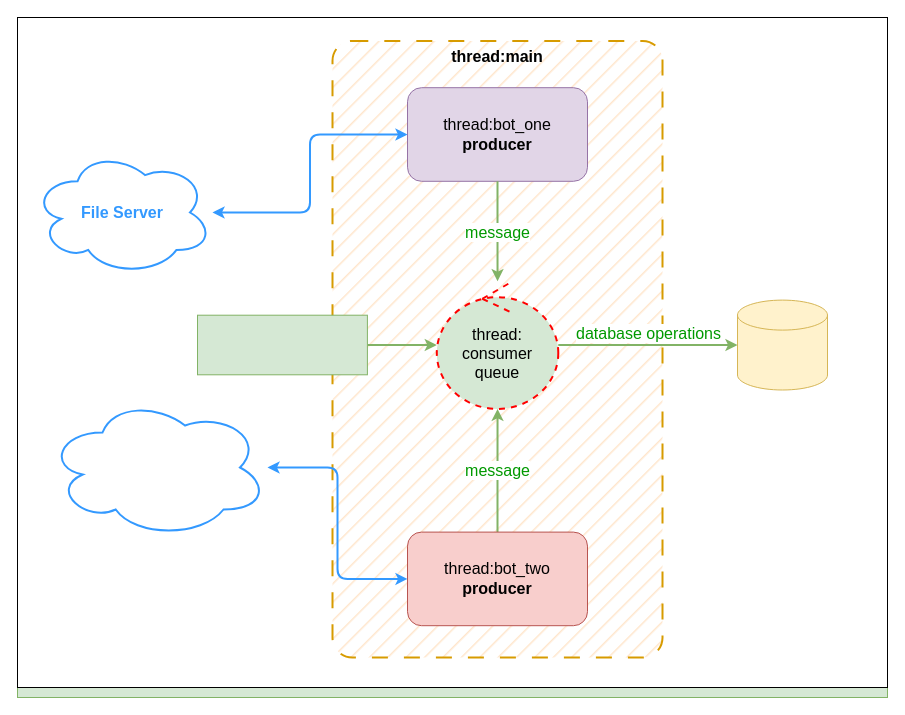
Some shapes in this 905 by 715 pixel diagram are drawn without their labels. Each missing label, with the centre of its shape:
API Web Automate Search and Reporting: the point at 157,467
DB: the point at 782,344
Receive and wait for a next message: the point at 281,344
